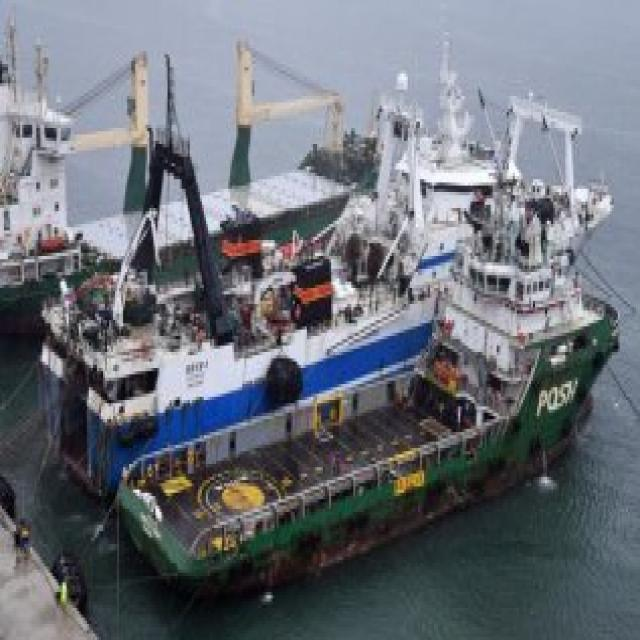Ship: (112, 155, 633, 606), (29, 52, 512, 500)
